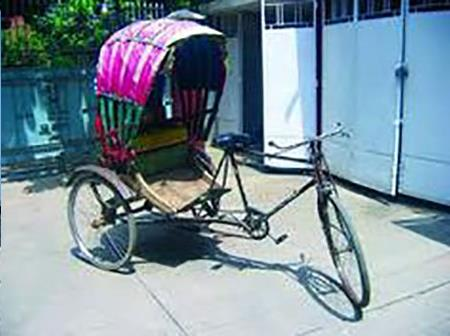Rickshaw: (59, 15, 372, 295)
